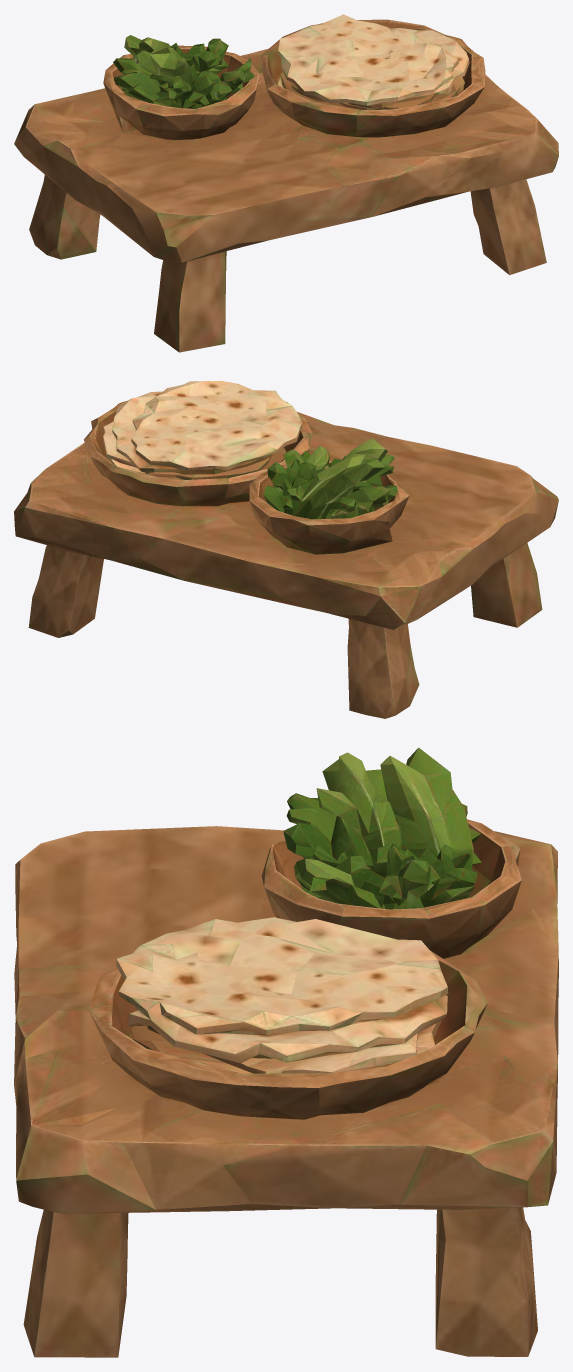
The model's file is passover-table.glb.
3 views of the same model, one above another, from view 1: azimuth 30°, elevation 25°; view 2: azimuth 150°, elevation 25°; view 3: azimuth 270°, elevation 25° (orthographic). The views are drawn at different scales.
Bounding box in the file's own units: 1.9 × 0.9916 × 1.34.
Materials: 1 (1 with a texture image).
